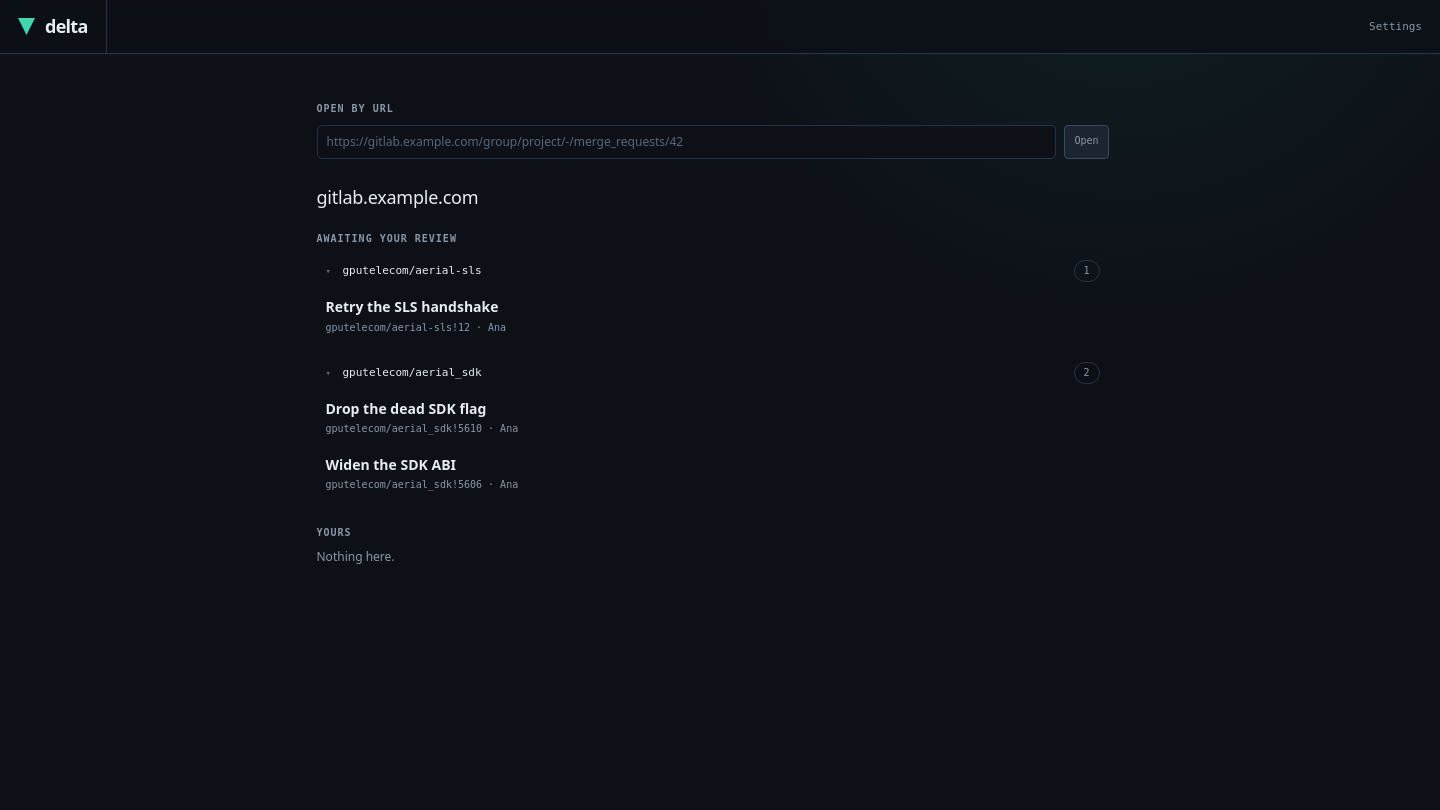
Test case: collapsing a group hides its rows, and expanding restores them
This screenshot has width=1440, height=810.
Expected: the text "Widen the SDK ABI" is shown, left=326, top=455, right=456, bottom=474
Click the button "▾ gputelecom/aerial_sdk 2".
click(412, 373)  # box left=316, top=356, right=1108, bottom=390
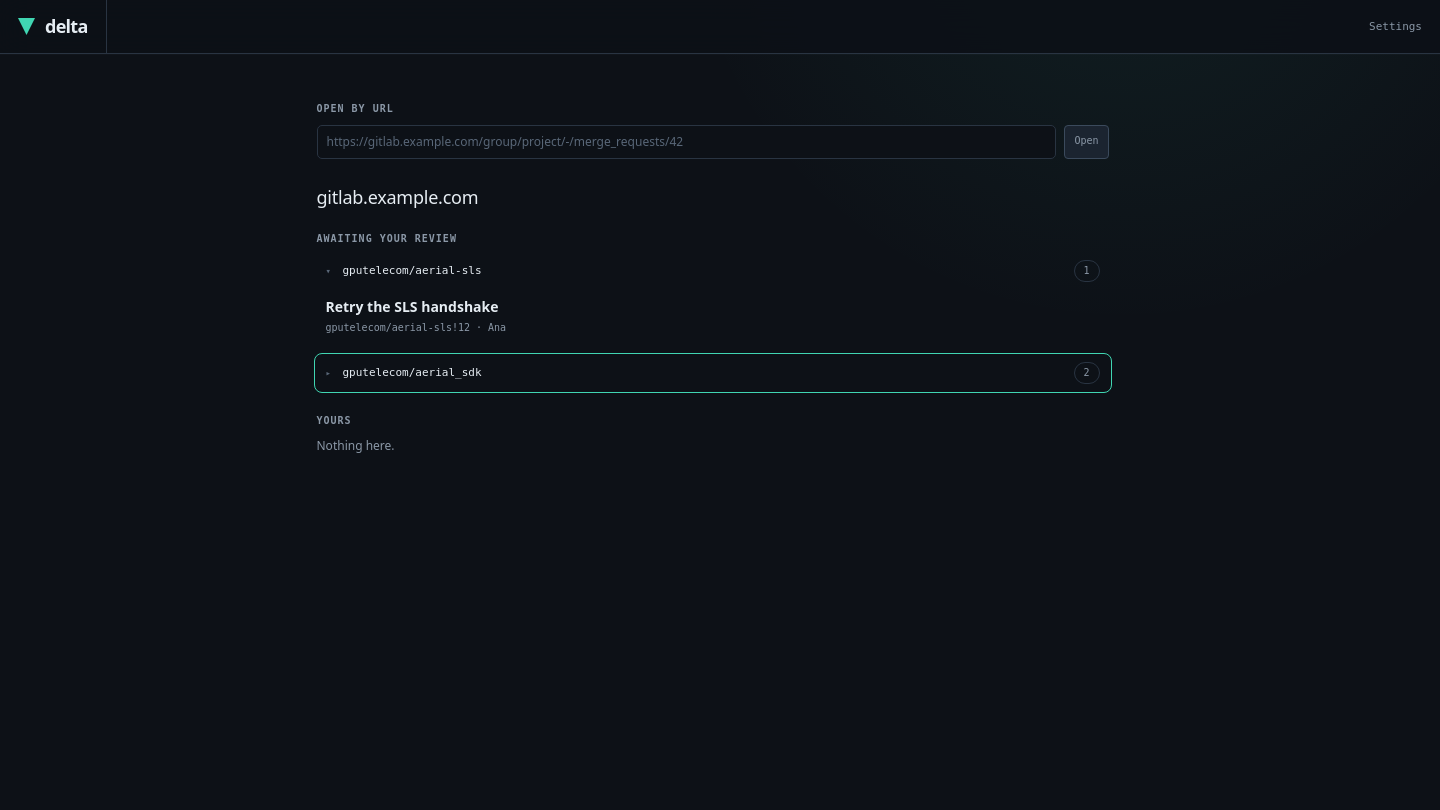
Expected: the text "2" is shown, left=1074, top=362, right=1100, bottom=384
Now the link "Widen the SDK ABI" is gone
Now the link "Drop the dead SDK flag" is gone
Click the button "▸ gputelecom/aerial_sdk 2".
click(412, 373)  # box left=316, top=356, right=1108, bottom=390
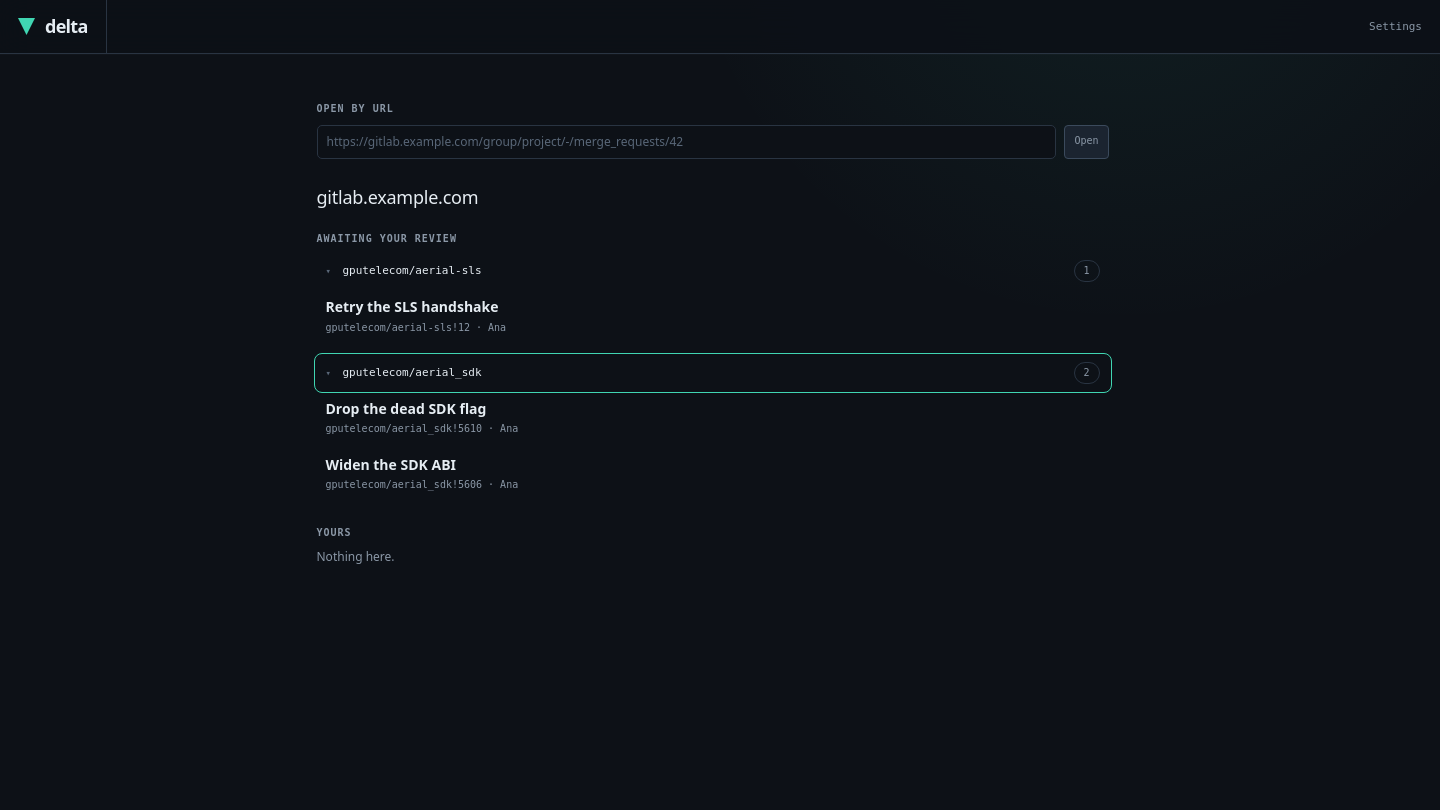
Now the text "Widen the SDK ABI" is shown, box left=326, top=455, right=456, bottom=474
